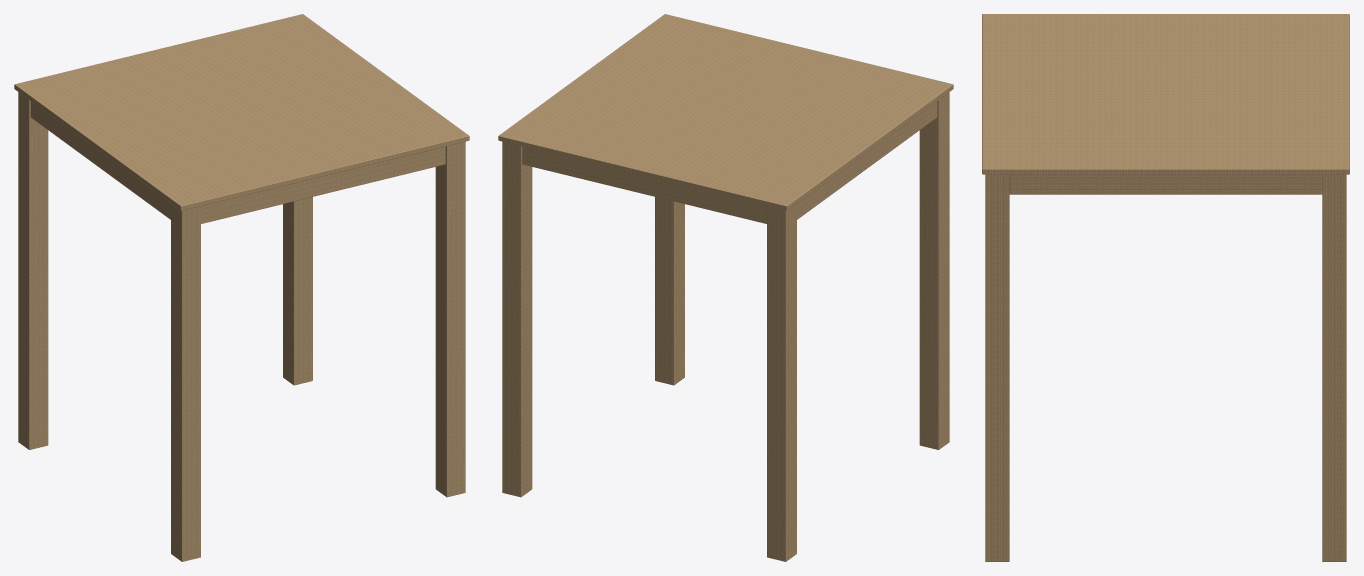
The model's file is desk.gltf.
3 renders of one model, left to right at view 1: azimuth 30°, elevation 25°; view 2: azimuth 150°, elevation 25°; view 3: azimuth 270°, elevation 25°, orthographic. The views are drawn at different scales.
Visible parts, largest first — view 1: ____v1; view 2: ____v1; view 3: ____v1.
Boxes of the visible parts, x1,y1,x2,y2 form: ____v1: [14, 14, 469, 561]; ____v1: [498, 14, 953, 561]; ____v1: [982, 14, 1349, 561].
Size of the model in its own units: 60 by 71 by 60.
Materials: 1 (1 with a texture image).
